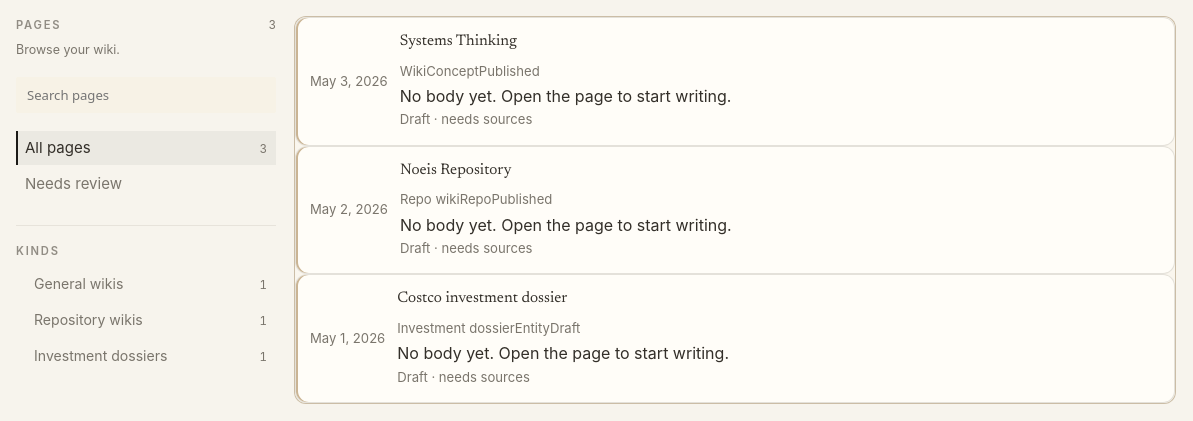
WikiList › groups compact results into general wikis, repository wikis, and investment dossiers
The width and height of the screenshot is (1193, 421).
Check: the element "Systems Thinking" is shown, box [295, 17, 1175, 146]
Check: the element "Noeis Repository" shows "Repo wiki", box [400, 161, 1099, 259]
Click the button with test id "wiki-facet-kind-repository".
click(88, 320)  # box [16, 304, 276, 338]
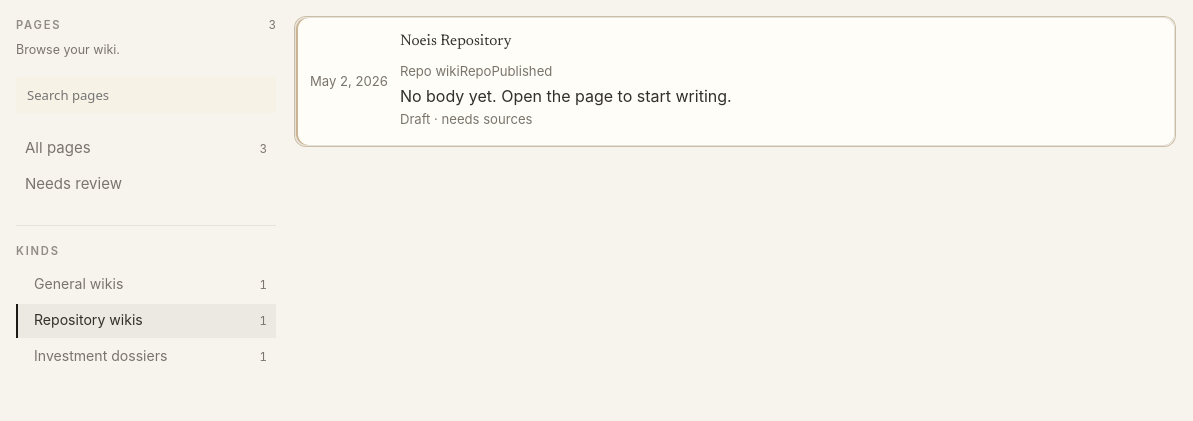
Check: the element "Noeis Repository" is shown, box [295, 17, 1175, 146]
Check: the link "Systems Thinking" is gone
Check: the link "Costco investment dossier" is gone
